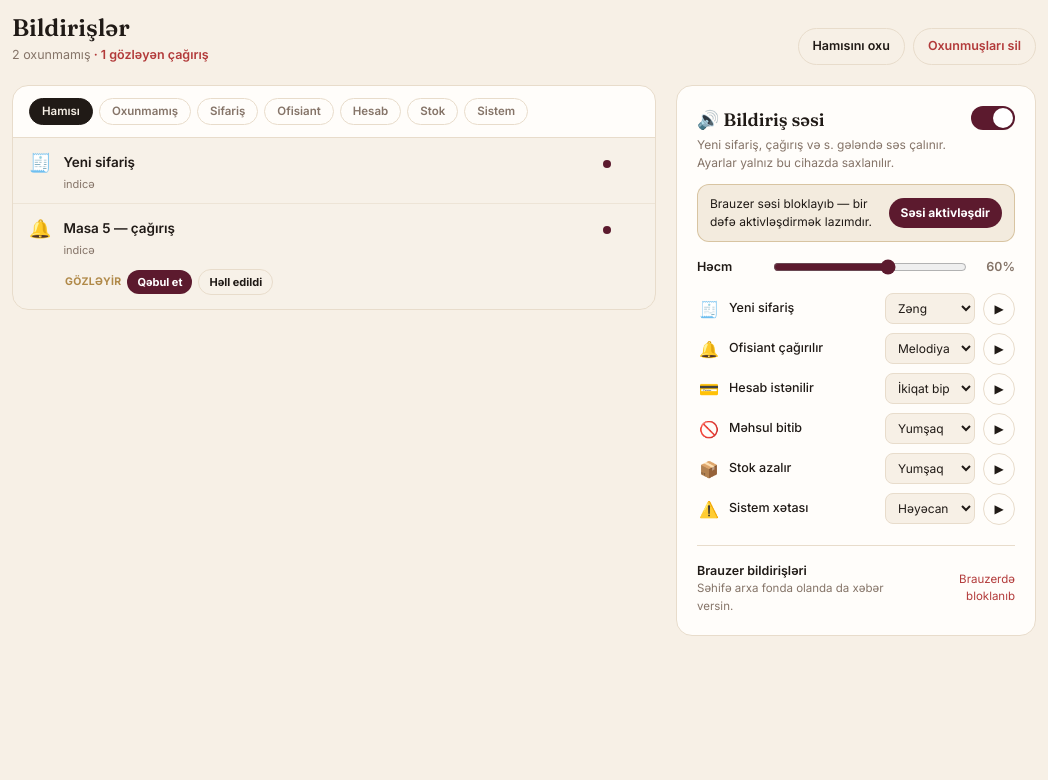
it: NotificationsAdmin (bildirişlər səhifəsi) › filtr işləyir: "Ofisiant" yalnız çağırışları göstərir
Click the button "Ofisiant".
click(299, 111)  # box x1=264 y1=98 x2=334 y2=125
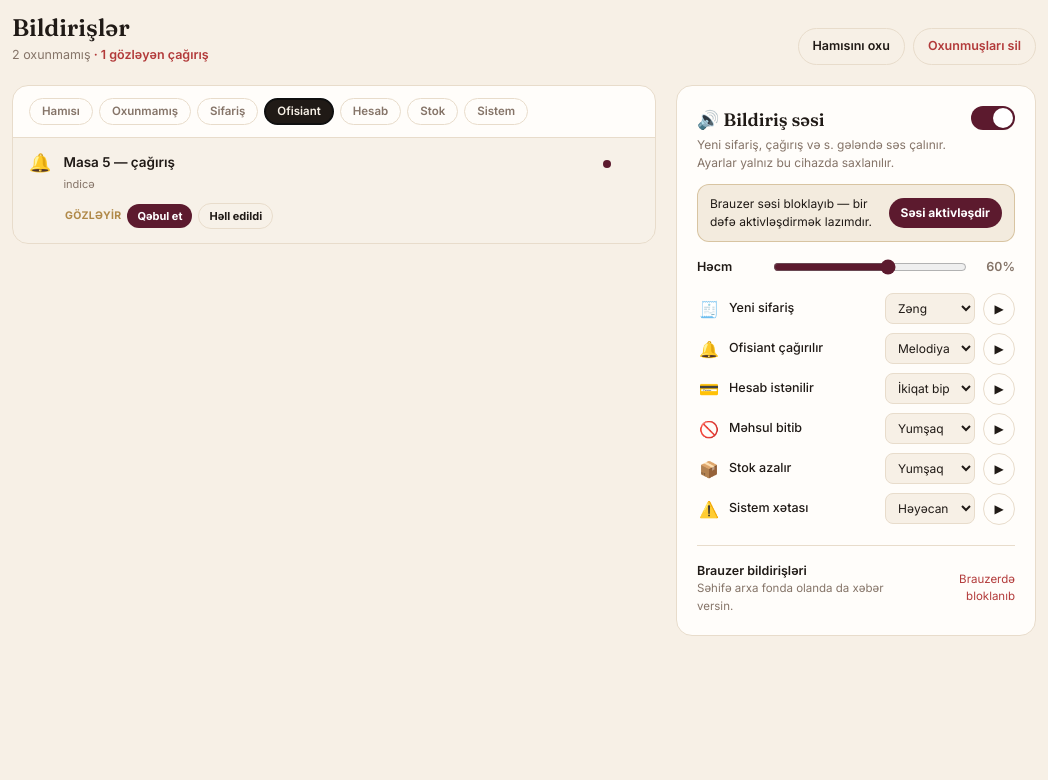
Expected: the text "Masa 5 — çağırış" is shown, x1=64 y1=154 x2=175 y2=170
Result: the number of list items with test id "notification-row" is 1 at x1=13 y1=138 x2=655 y2=243
